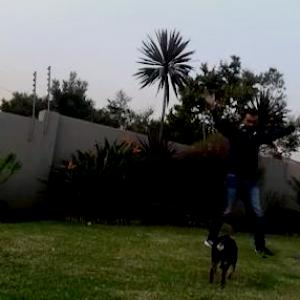takeoff: (207, 88, 299, 256)
